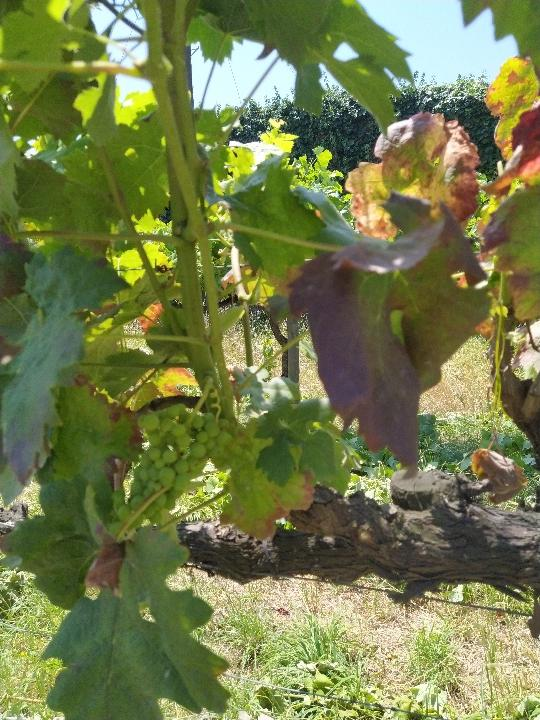grape: (124, 397, 238, 524)
